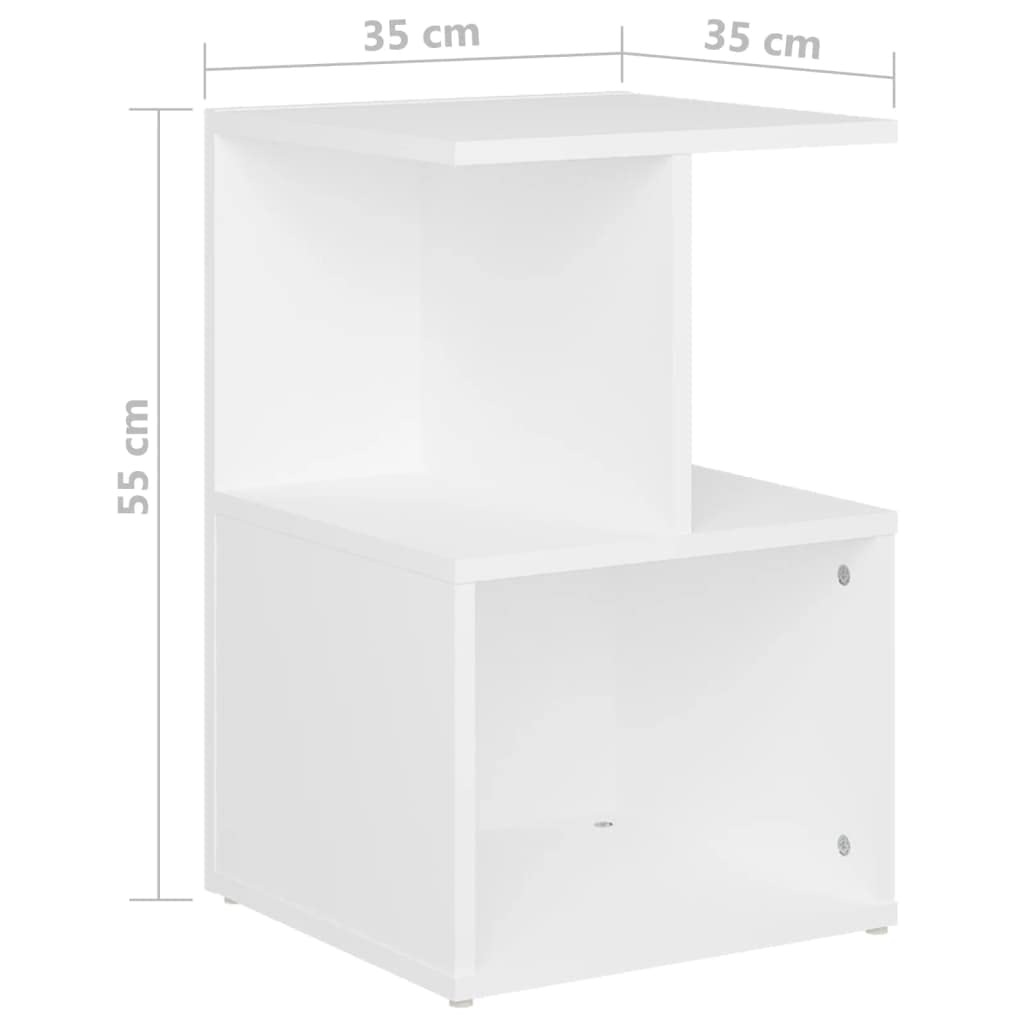55cm: (117, 400, 149, 515)
